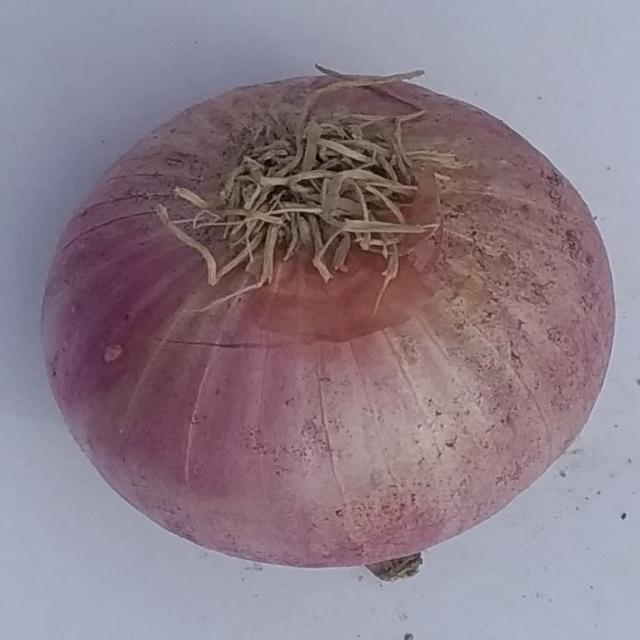onion: (39, 65, 618, 585)
